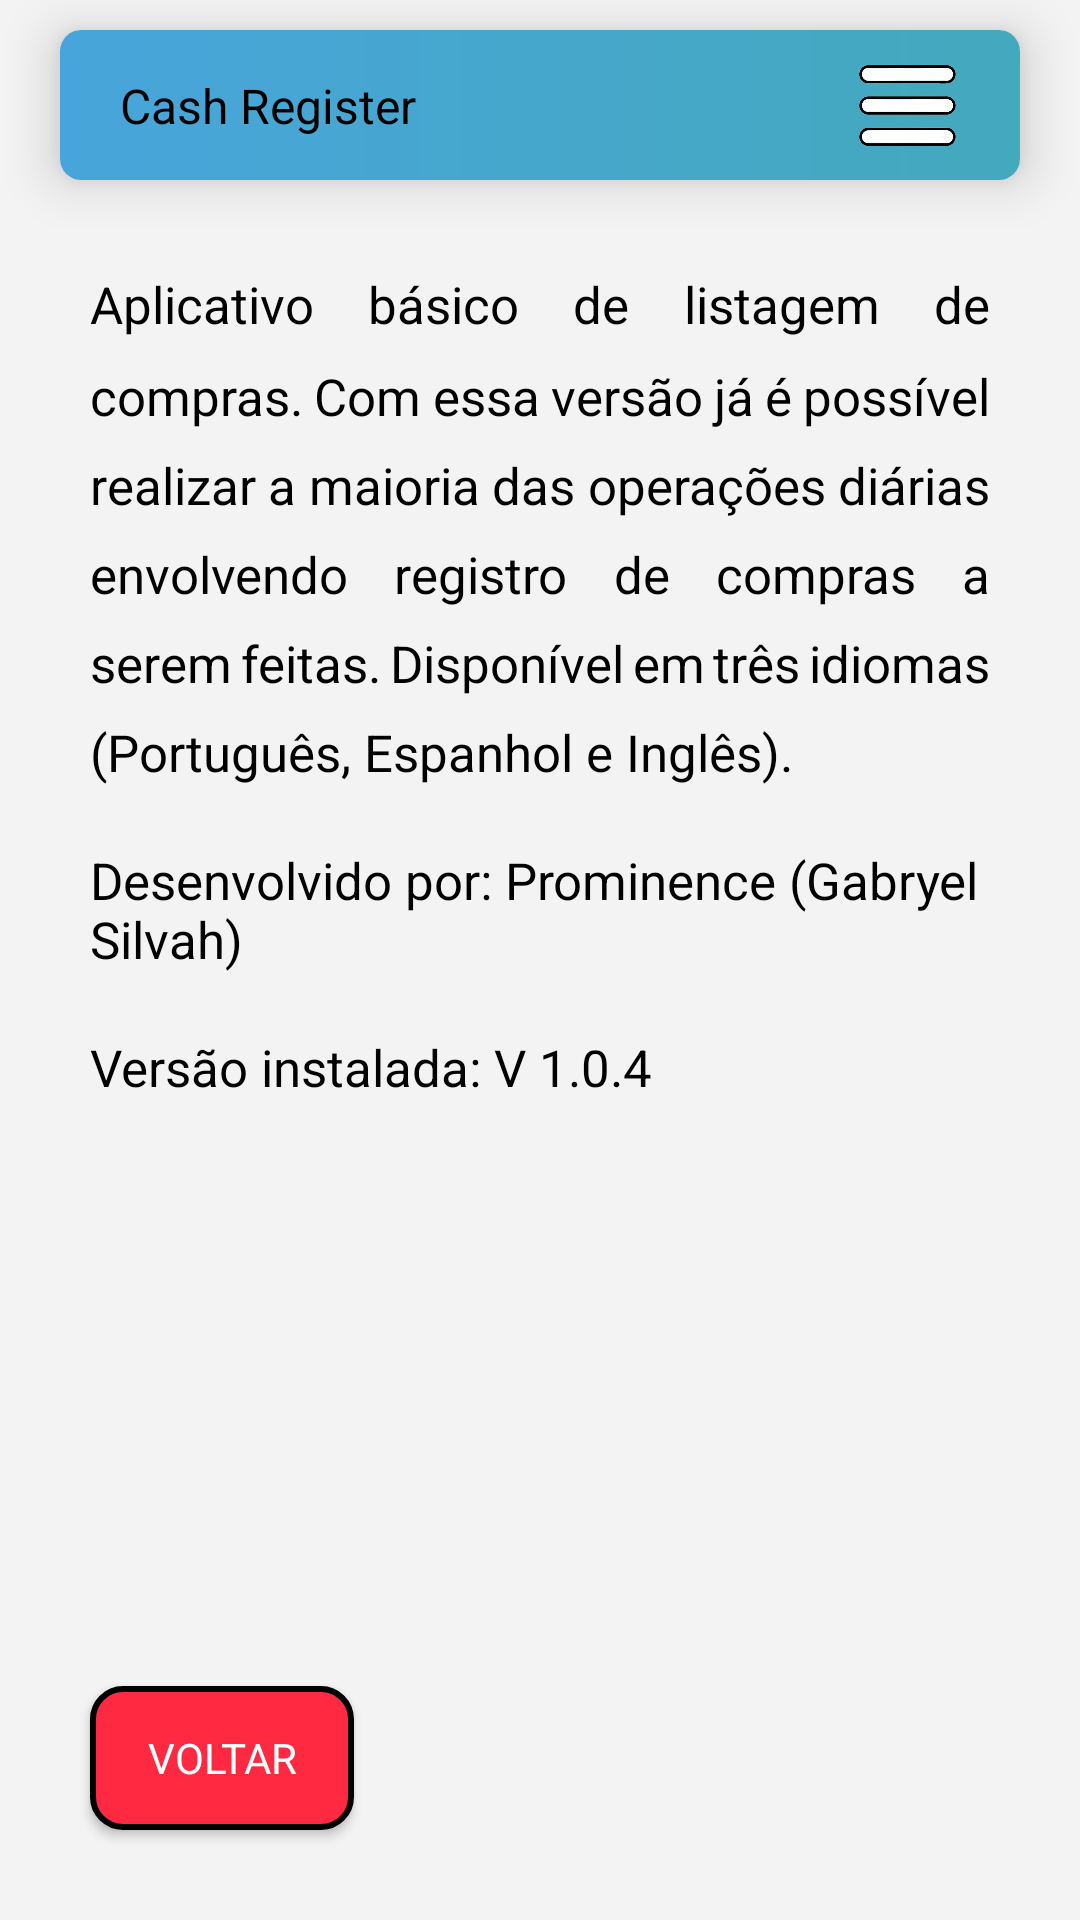

Point at icon controls on the screen. Image size 1080 x 1920, points as point (x, y).
menu: point (907, 105)
